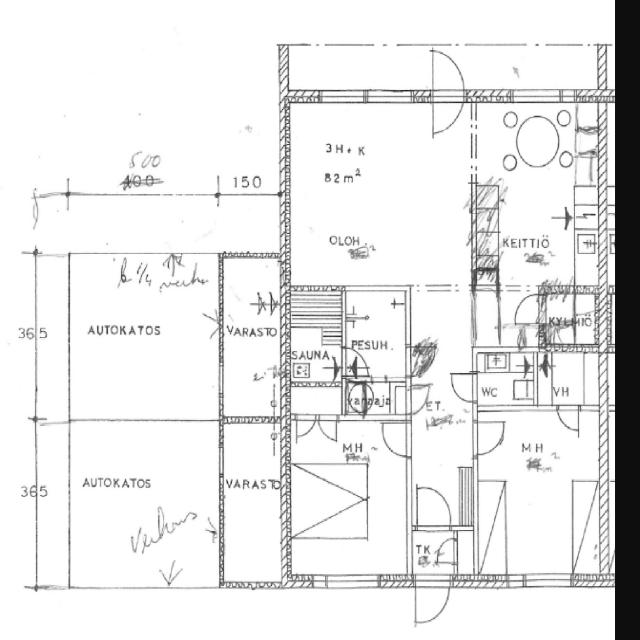door: (429, 48, 468, 139), (412, 566, 452, 628), (413, 481, 454, 533), (181, 194, 220, 244), (429, 92, 464, 138), (472, 418, 508, 458), (379, 419, 411, 460), (512, 290, 542, 327), (448, 370, 478, 404), (554, 402, 582, 434), (198, 311, 222, 345), (436, 535, 458, 567), (317, 414, 340, 444), (294, 413, 317, 441)
window: (321, 573, 382, 593), (513, 86, 570, 107), (522, 570, 574, 592), (365, 86, 415, 108), (318, 86, 367, 107), (215, 357, 228, 401), (215, 440, 227, 482), (36, 248, 70, 259)
zone: (53, 252, 221, 421), (283, 99, 458, 247), (474, 98, 603, 290), (474, 406, 604, 581), (220, 420, 286, 588), (221, 256, 285, 421), (345, 290, 409, 382), (284, 290, 345, 381), (474, 348, 544, 414), (542, 346, 606, 410), (540, 288, 602, 350), (469, 287, 529, 351), (348, 378, 410, 421)
